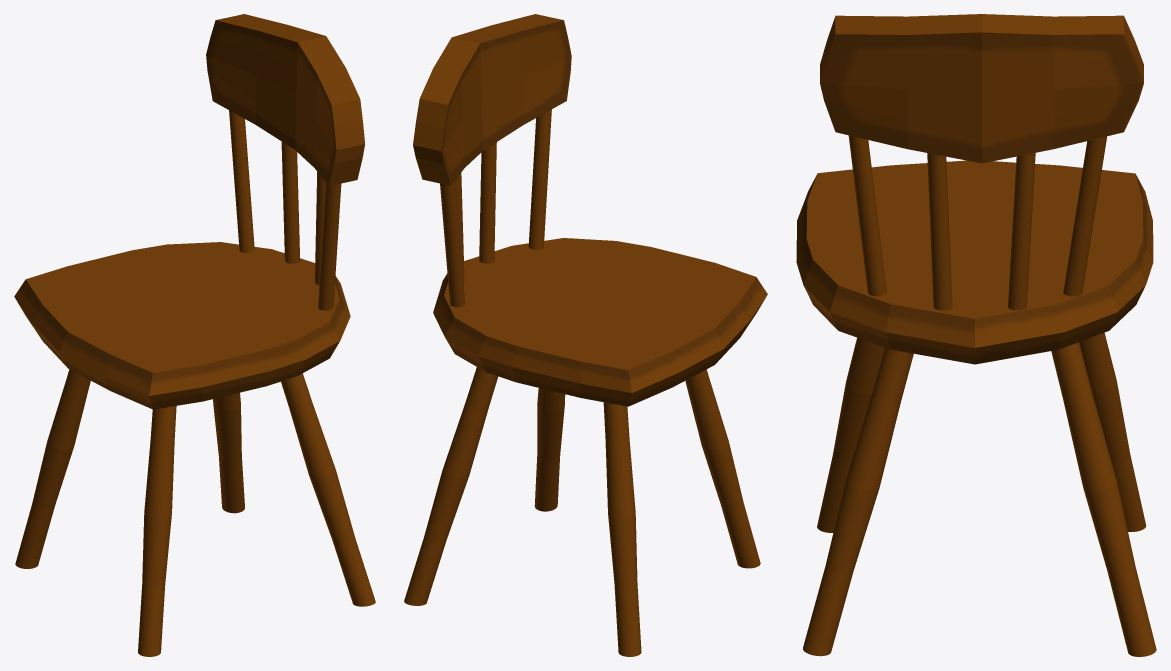
File: isu.fbx
The picture shows the model from 3 angles, left to right: view 1: azimuth 30°, elevation 25°; view 2: azimuth 150°, elevation 25°; view 3: azimuth 270°, elevation 25°; orthographic projection. The views are drawn at different scales.
Visible parts, largest first — view 1: Plane; view 2: Plane; view 3: Plane.
Part boxes in pixels (<box>): Plane: <box>14,14,375,656</box>; Plane: <box>404,14,767,656</box>; Plane: <box>796,14,1156,656</box>.
Size of the model in its own units: 240 by 419 by 214.
